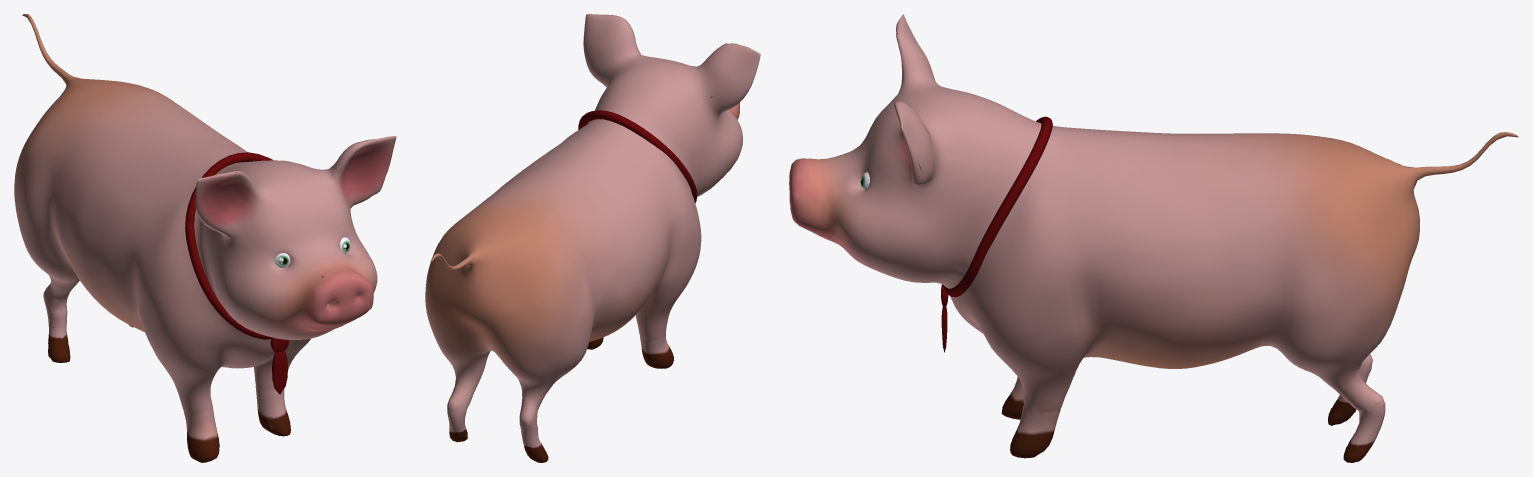
Rendered from kravatlıdomuz.fbx.
3 renders of one model, left to right at view 1: azimuth 30°, elevation 25°; view 2: azimuth 150°, elevation 25°; view 3: azimuth 270°, elevation 25°, orthographic. The views are drawn at different scales.
Visible parts, largest first — view 1: kravatlı domuz; view 2: kravatlı domuz; view 3: kravatlı domuz.
Boxes of the visible parts, box(x1,y1,x2,y2) form: kravatlı domuz: box(14, 14, 396, 462); kravatlı domuz: box(425, 14, 760, 462); kravatlı domuz: box(789, 14, 1518, 462).
Bounding box in the file's own units: 68.83 × 112 × 195.
2 materials, 2 textured.
